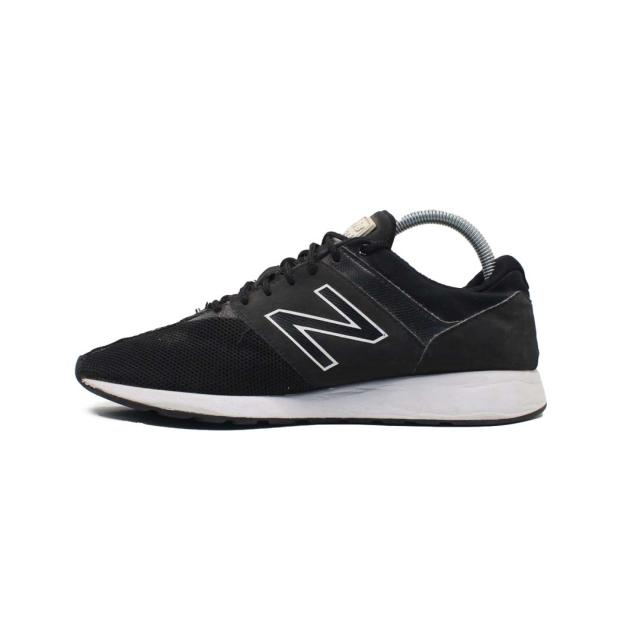heel: (498, 251, 541, 373)
midsole: (72, 353, 546, 432)
uppersole: (77, 207, 497, 398)
